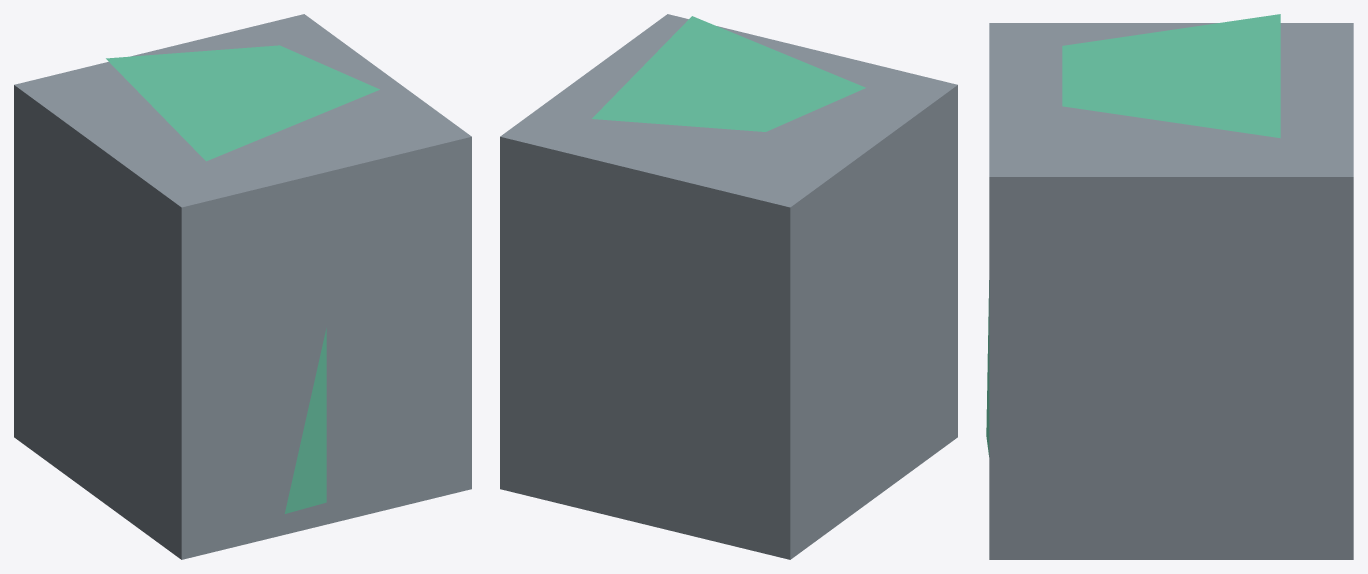
The model's file is CO_RailTower_LOD1.glb.
3 views of the same model, side by side, from view 1: azimuth 30°, elevation 25°; view 2: azimuth 150°, elevation 25°; view 3: azimuth 270°, elevation 25° (orthographic). The views are drawn at different scales.
Visible parts, largest first — view 1: EntranceGate; view 2: EntranceGate; view 3: EntranceGate.
Boxes of the visible parts, bbox=[...] form: EntranceGate: bbox=[14, 14, 471, 559]; EntranceGate: bbox=[500, 14, 957, 559]; EntranceGate: bbox=[986, 14, 1353, 559].
Size of the model in its own units: 400 by 512 by 403.
